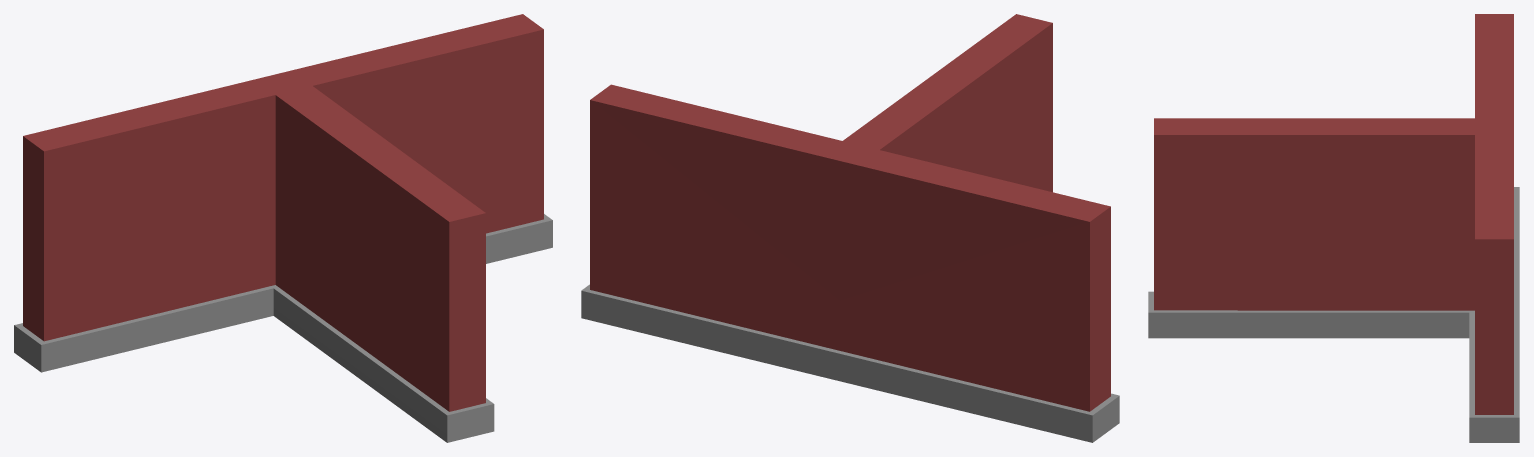
The model's file is qiang02.FBX.
The picture shows the model from 3 angles, left to right: view 1: azimuth 30°, elevation 25°; view 2: azimuth 150°, elevation 25°; view 3: azimuth 270°, elevation 25°; orthographic projection. The views are drawn at different scales.
Parts seen in each view (by area): view 1: 02; view 2: 02; view 3: 02.
Boxes of the visible parts, x1,y1,x2,y2 form: 02: (14,14,552,442); 02: (581,14,1119,442); 02: (1148,14,1519,442).
Bounding box in the file's own units: 799 × 325 × 543.
